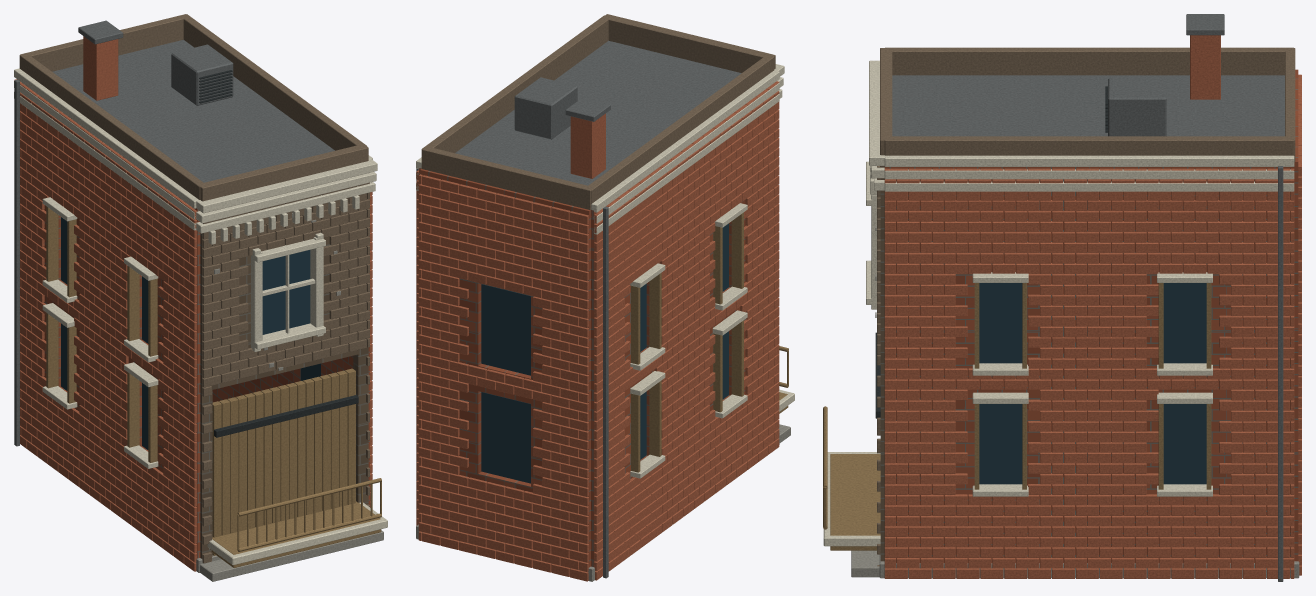
The model's file is WHSE18_lod0.glb.
3 views of the same model, side by side, from view 1: azimuth 30°, elevation 25°; view 2: azimuth 150°, elevation 25°; view 3: azimuth 270°, elevation 25° (orthographic). The views are drawn at different scales.
Visible parts, largest first — view 1: WHSE18_LOD0; view 2: WHSE18_LOD0; view 3: WHSE18_LOD0.
Part boxes in pixels (bbox=[...]): WHSE18_LOD0: bbox=[14, 14, 387, 581]; WHSE18_LOD0: bbox=[416, 14, 794, 581]; WHSE18_LOD0: bbox=[823, 14, 1301, 581].
Size of the model in its own units: 3.71 by 7.85 by 7.02.
15 materials, 13 textured.
